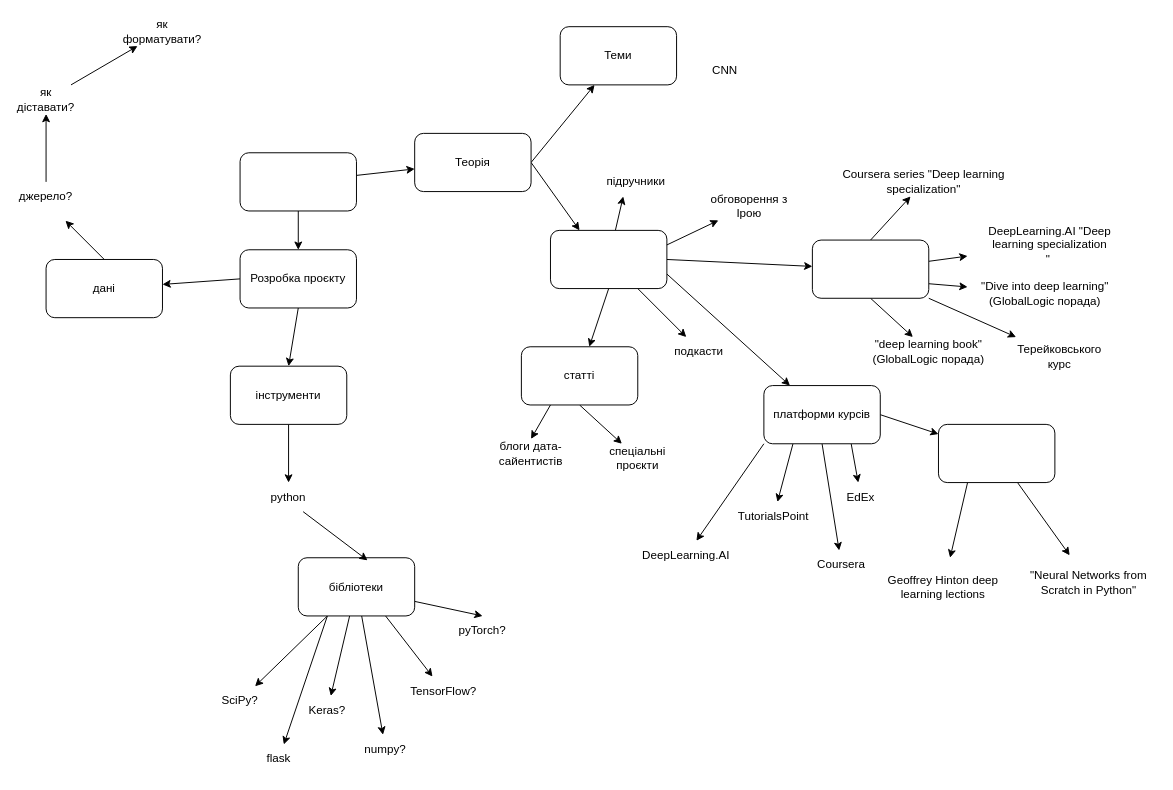
Image size: 1173x790. Some labels were removed from this diagram. The shapes that lost their labels are listed below. From the top down, each one's centre as x and y in pixels, then its label:
At (x=297, y=181): "Розпізнавання архітектурного стилю будівель".
At (x=608, y=259): "Тип сприйняття".
At (x=870, y=268): "курси по нейронним мережам".
At (x=996, y=453): "youtube".
